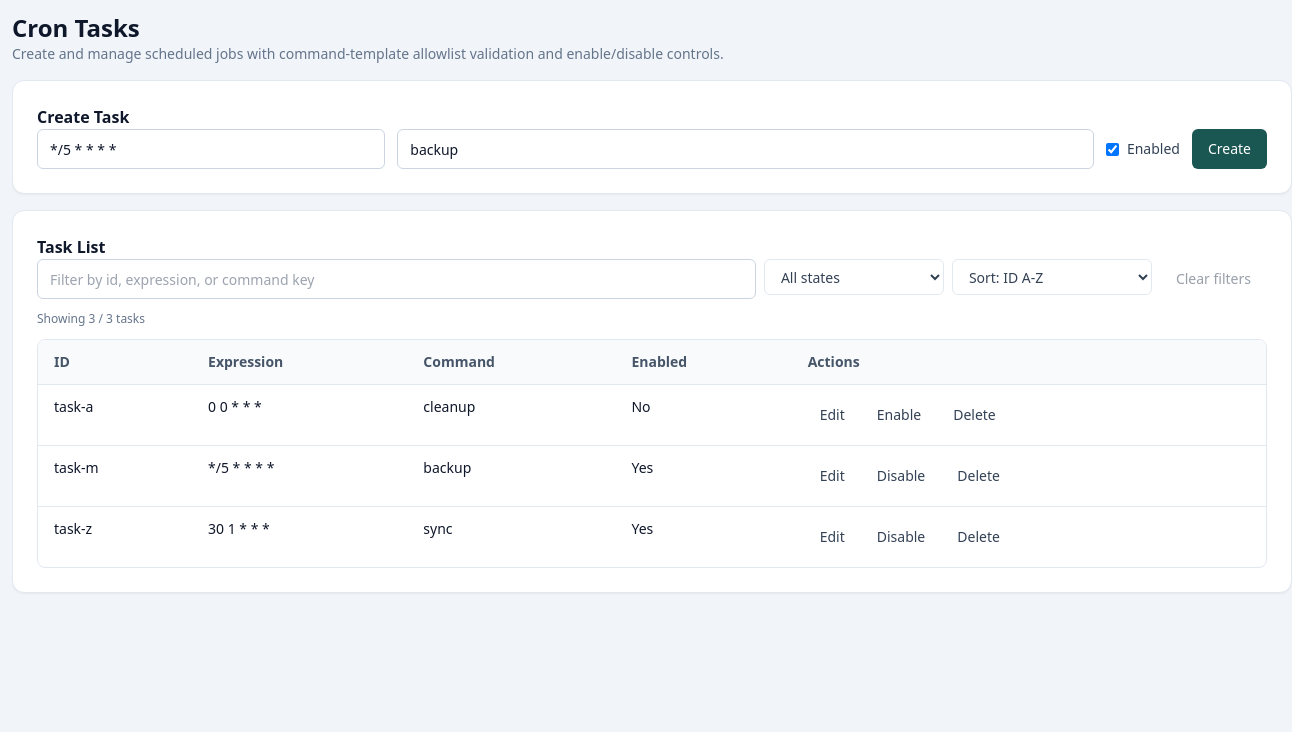
Test case: CronPage › clears list filters and resets sort mode
Expected: the text "Showing 3 / 3 tasks" is shown, [37,310,145,327]
Expected: the button "Clear filters" is disabled, [1160,259,1267,299]
In the field with placeholder "Filter by id, expression, or command key": (396, 279) [37,259,756,299], type "task"
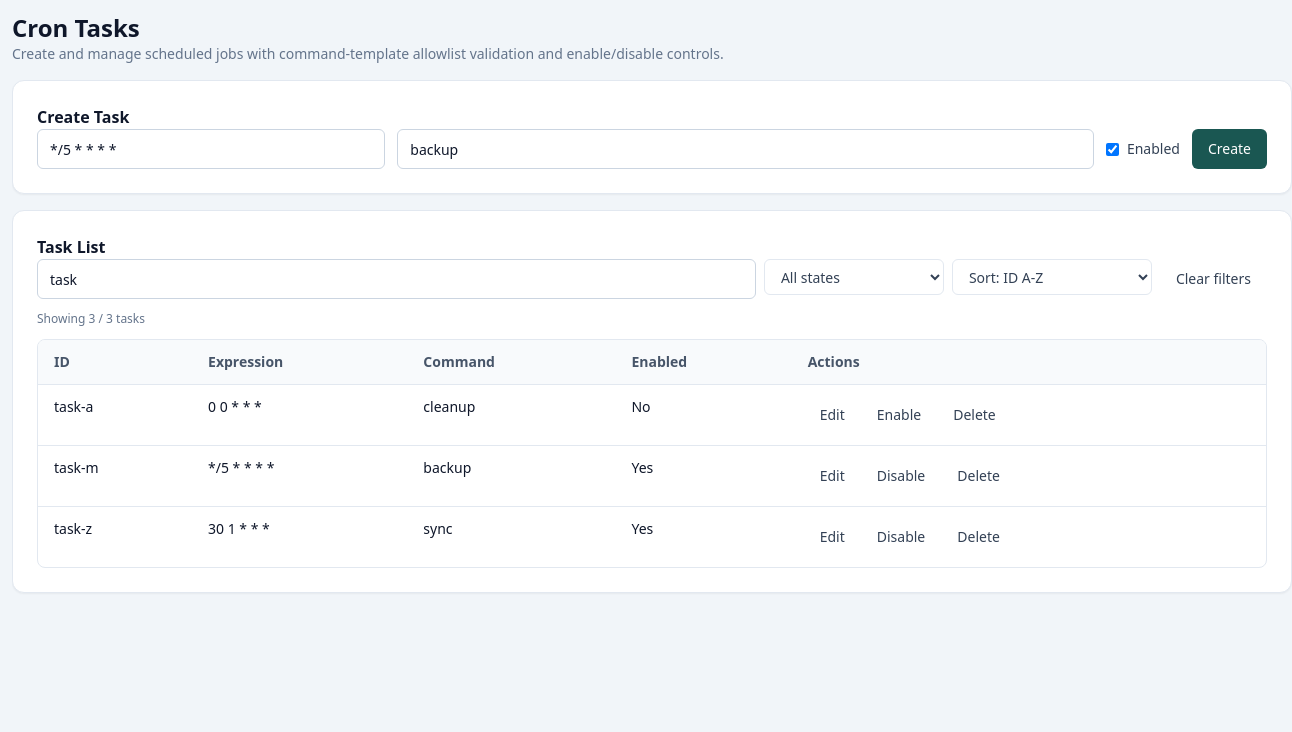
Select "Enabled only" in the 1st dropdown: (854, 277) [764,259,944,295]
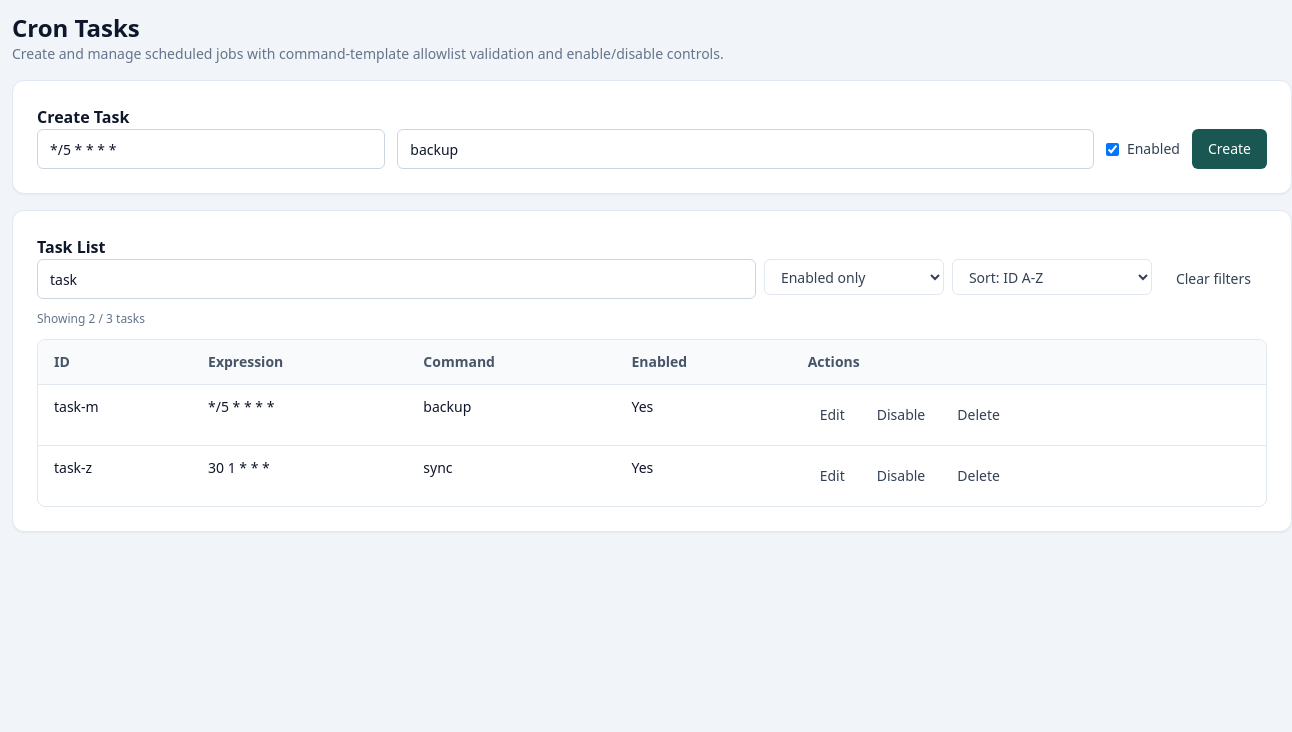
Select "Sort: ID Z-A" in the 2nd dropdown: (1052, 277) [952,259,1152,295]
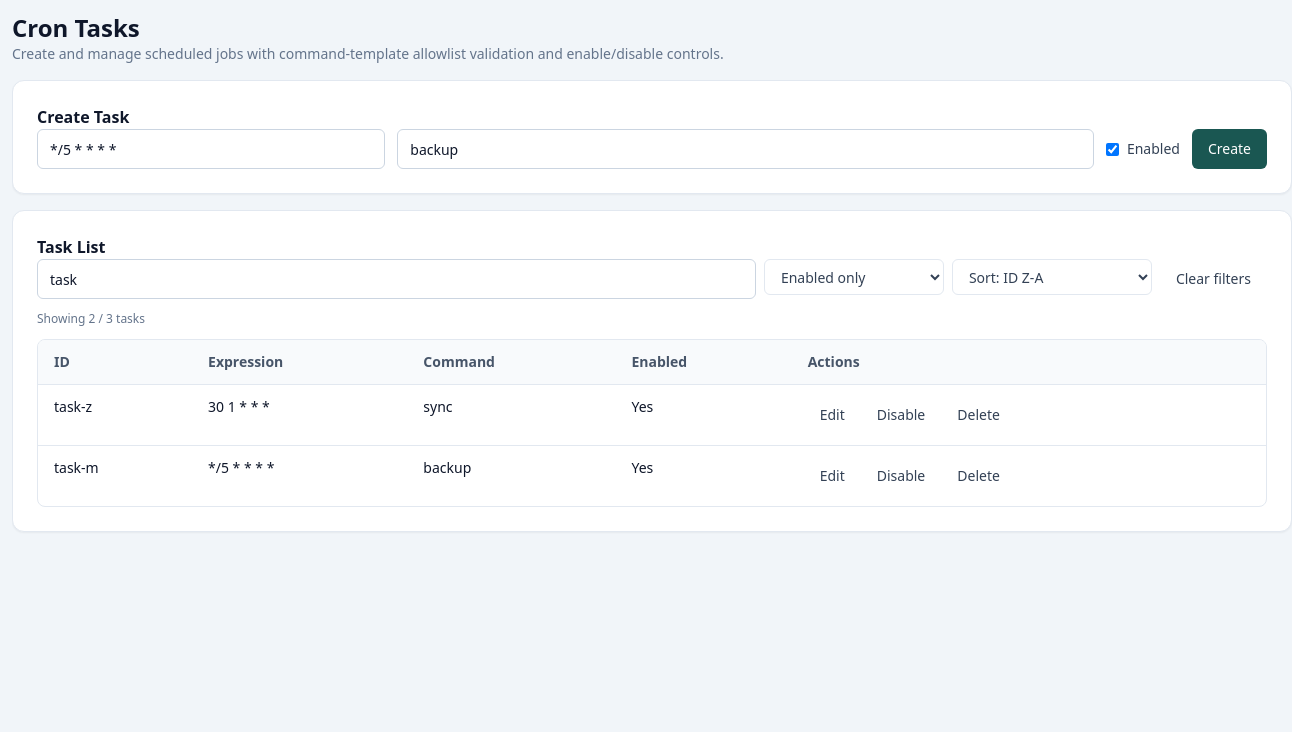
Now the button "Clear filters" is enabled
Click the button "Clear filters": (1213, 279) [1160,259,1267,299]
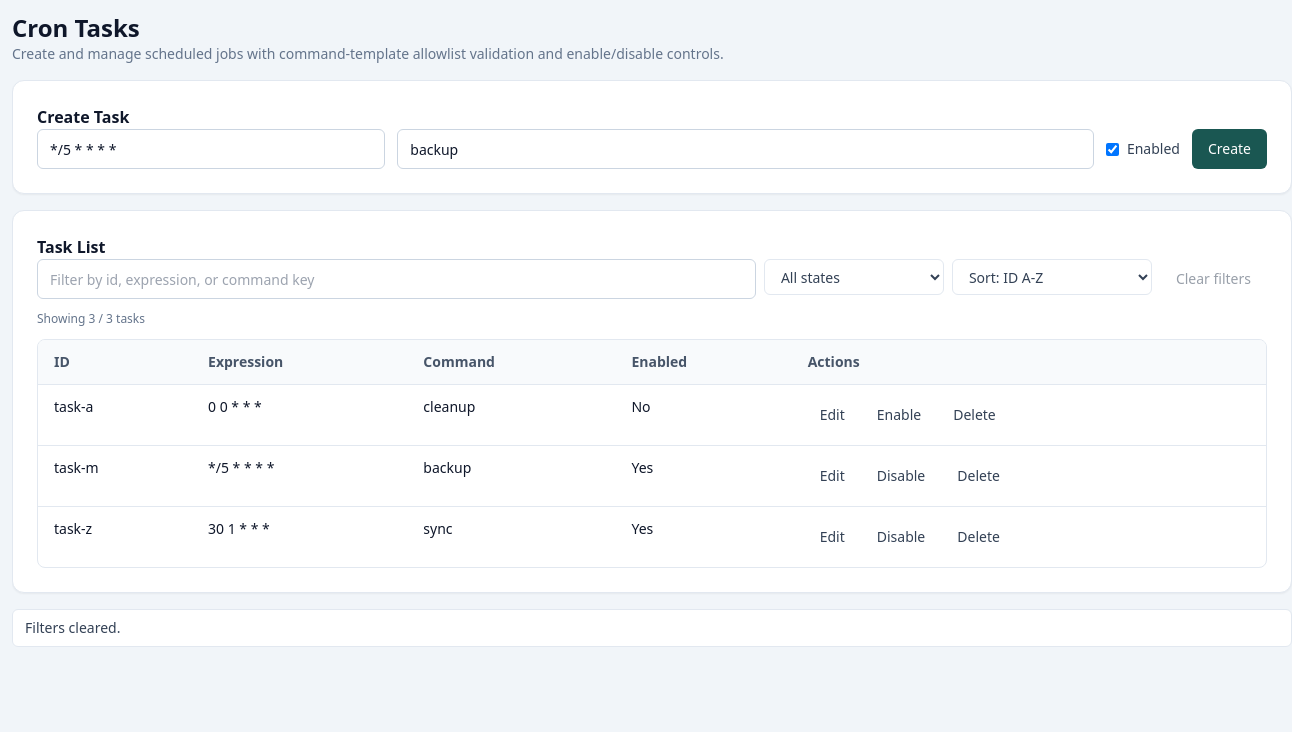
Now the field with placeholder "Filter by id, expression, or command key" is empty, box [37,259,756,299]
Now the text "Filters cleared." is shown, box [12,609,1291,647]
Now the text "Showing 3 / 3 tasks" is shown, box [37,310,145,327]
